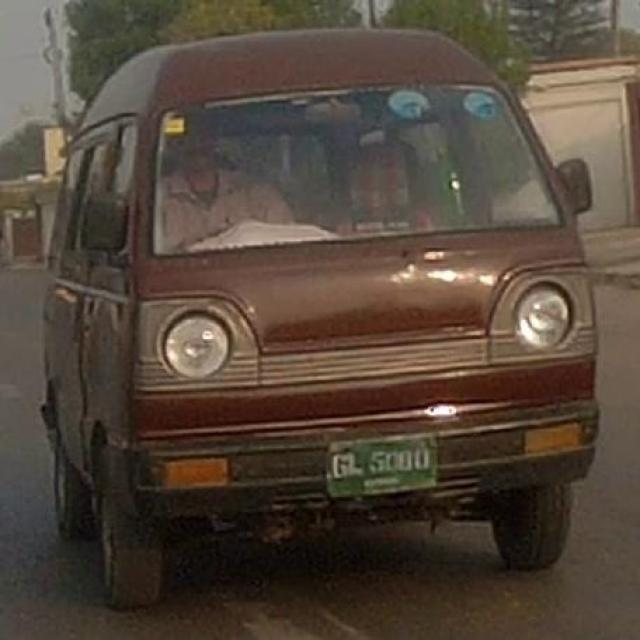Van: (38, 21, 613, 626)
